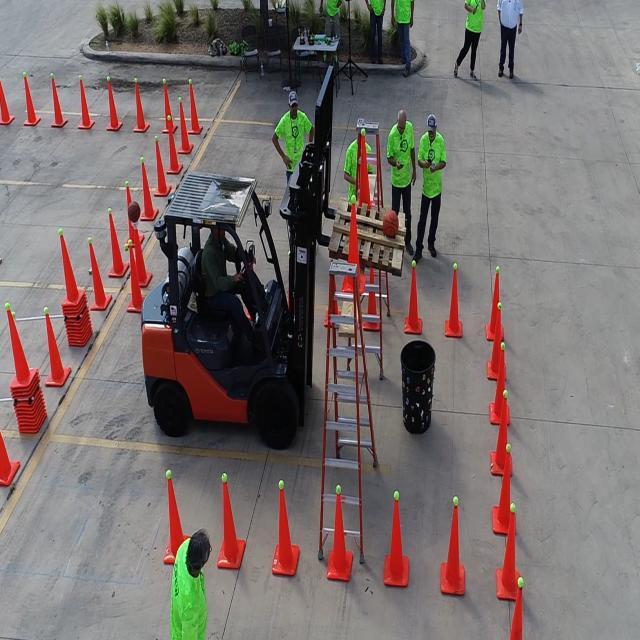person: (142, 170, 308, 454), (166, 531, 219, 640), (421, 112, 443, 262), (388, 109, 418, 212), (274, 92, 312, 170), (491, 0, 527, 81), (460, 0, 488, 87)
